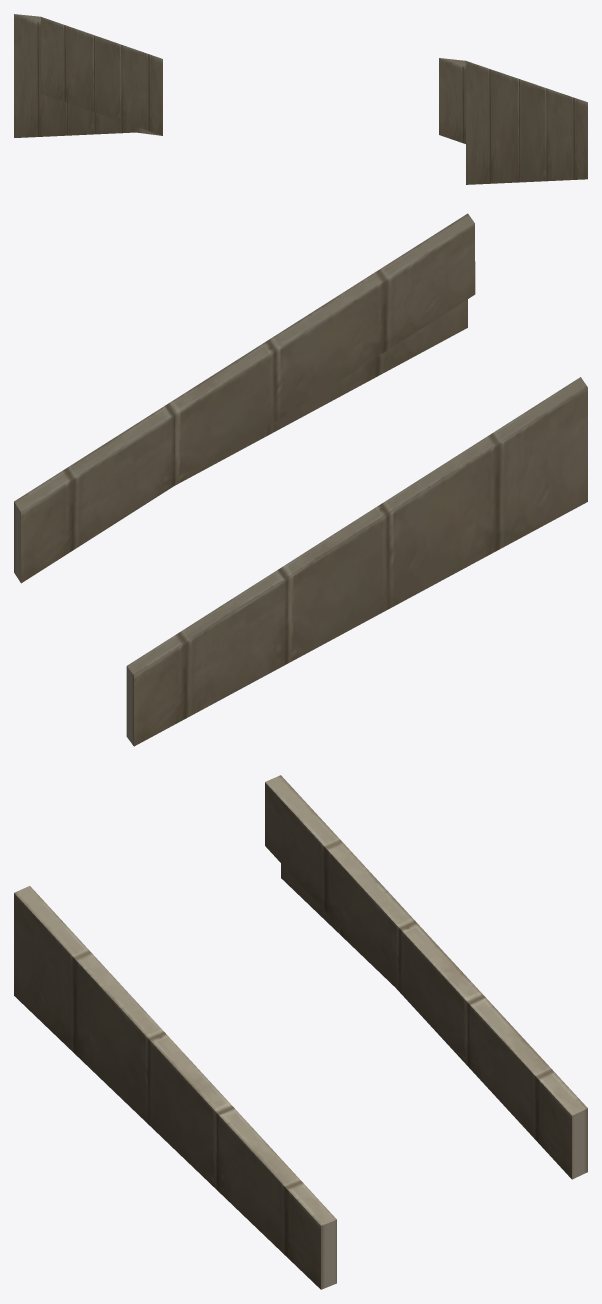
File: taijie.FBX
3 views of the same model, one above another, from view 1: azimuth 30°, elevation 25°; view 2: azimuth 150°, elevation 25°; view 3: azimuth 270°, elevation 25° (orthographic). The views are drawn at different scales.
Visible parts, largest first — view 1: zhucheng001; view 2: zhucheng001; view 3: zhucheng001.
Part boxes in pixels (<box>): zhucheng001: <box>14,14,587,184</box>; zhucheng001: <box>14,213,587,746</box>; zhucheng001: <box>14,775,587,1289</box>.
Bounding box in the file's own units: 794 × 418 × 796.
